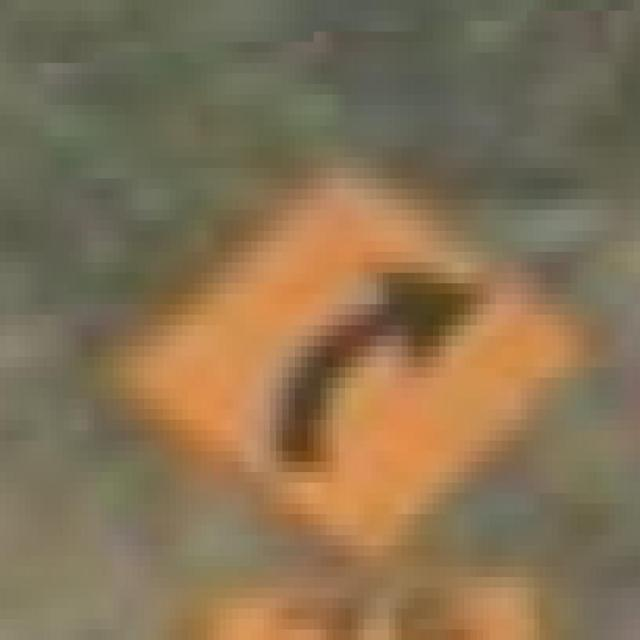Tikungan Ke Kanan: (101, 94, 584, 588)
